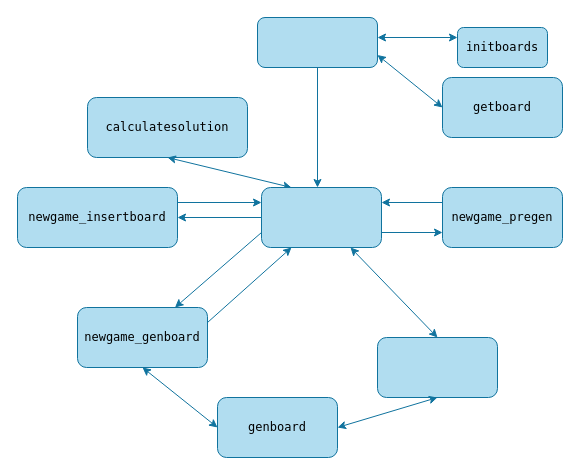
The diagram is 580 pixels wide and 475 high, and some of its shapes have lost their labels. The shapes that lost their labels are listed below. From the top down, each one's centre as x and y in pixels, then its label:
the point at 317,42: main
the point at 321,217: initwindow
the point at 437,367: checkifvalid
